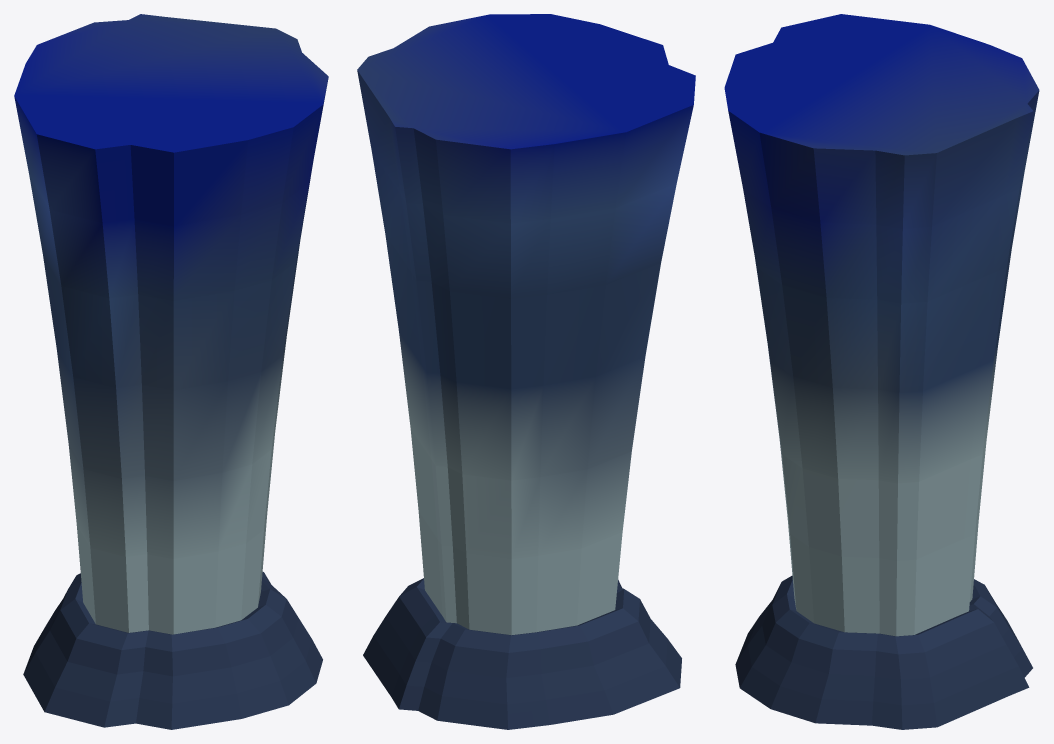
Rendered from GeyzerM.glb.
3 views of the same model, side by side, from view 1: azimuth 30°, elevation 25°; view 2: azimuth 150°, elevation 25°; view 3: azimuth 270°, elevation 25° (orthographic).
Parts seen in each view (by area): view 1: GeyzerPart2.001, GeyzerPart2; view 2: GeyzerPart2.001, GeyzerPart2; view 3: GeyzerPart2.001, GeyzerPart2.
Part boxes in pixels (x1=…): GeyzerPart2.001: x1=14, y1=14, x2=328, y2=634; GeyzerPart2: x1=23, y1=572, x2=322, y2=729; GeyzerPart2.001: x1=357, y1=14, x2=695, y2=635; GeyzerPart2: x1=363, y1=578, x2=681, y2=729; GeyzerPart2.001: x1=724, y1=14, x2=1039, y2=636; GeyzerPart2: x1=735, y1=576, x2=1032, y2=729.
Bounding box in the file's own units: 4.11 × 7.83 × 3.87.
